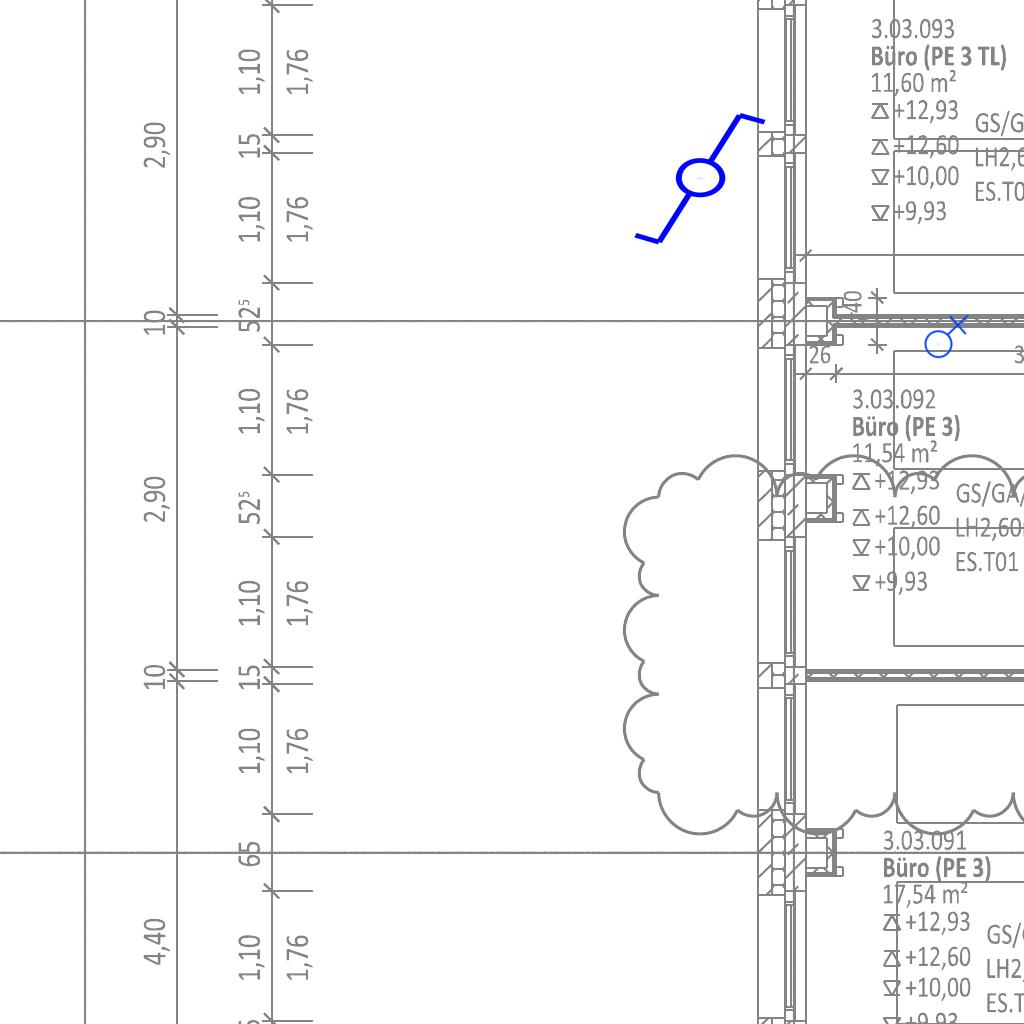Elektroanschluss_allgemein_230V_Geraeteanschlussdose_230V: (920, 312, 969, 359)
Wechselschalter: (630, 108, 787, 252)
